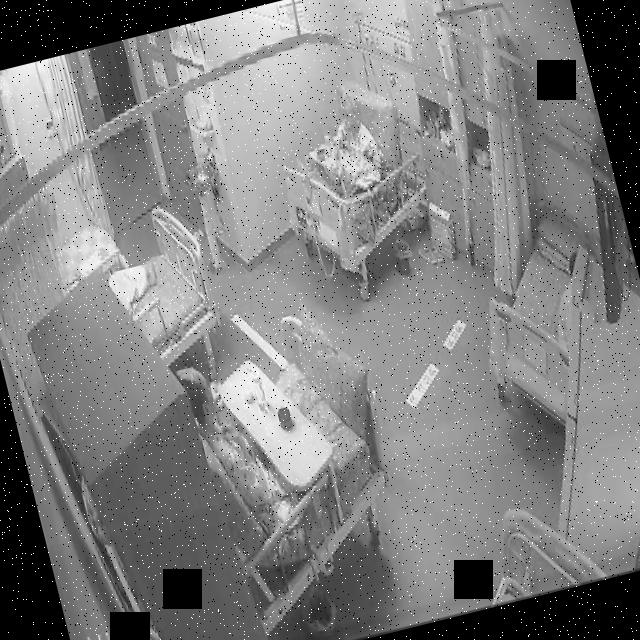bed: (178, 308, 412, 607), (456, 196, 620, 438), (266, 90, 442, 272), (98, 196, 228, 370)
patient: (177, 347, 291, 538), (327, 90, 379, 170)
sit: (178, 322, 380, 532), (296, 93, 388, 203)
